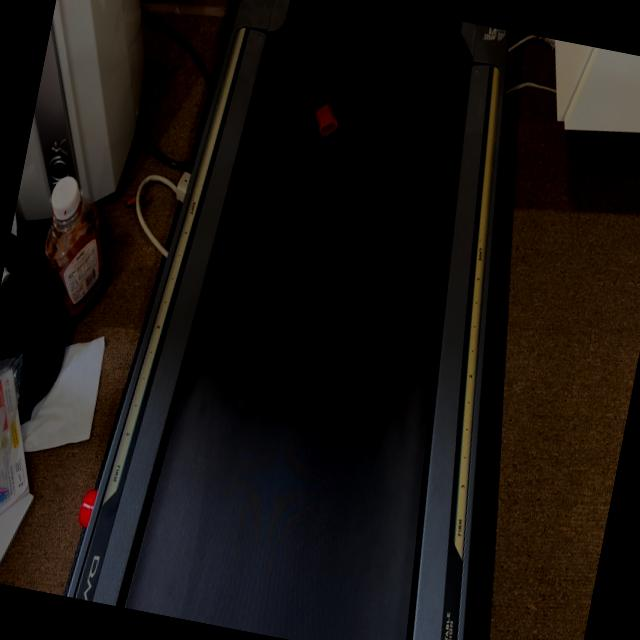Trash: (309, 87, 355, 150)
